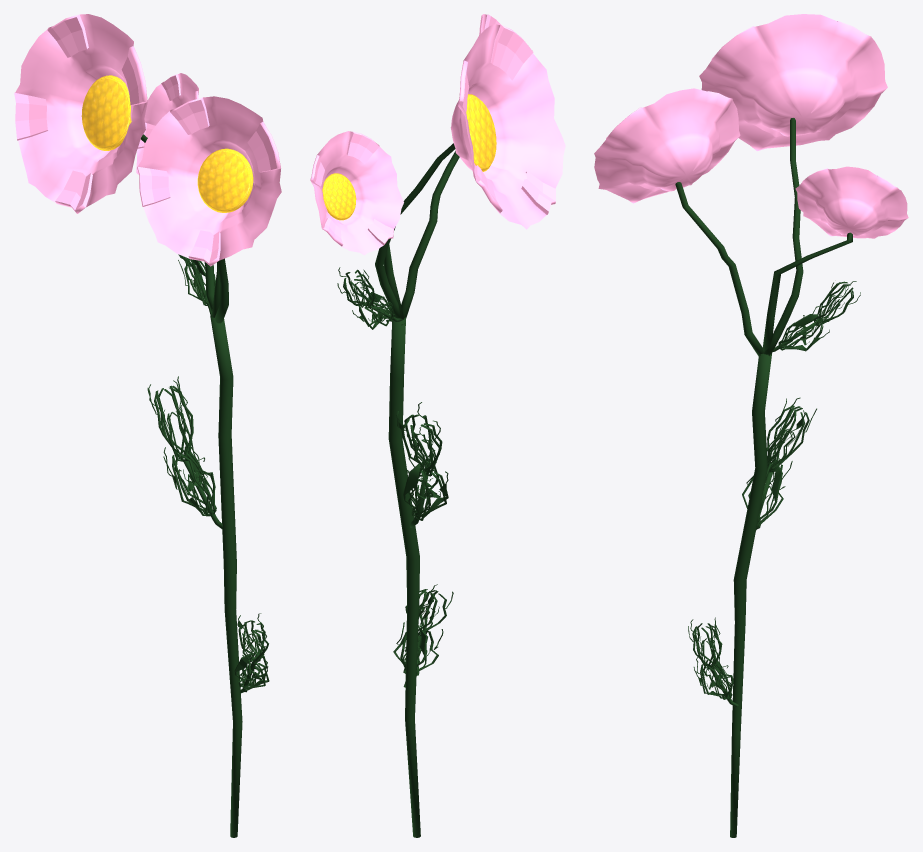
Rendered from cosmospinkcp.glb.
The picture shows the model from 3 angles, left to right: view 1: azimuth 30°, elevation 25°; view 2: azimuth 150°, elevation 25°; view 3: azimuth 270°, elevation 25°; orthographic projection. The views are drawn at different scales.
Visible parts, largest first — view 1: flower; view 2: flower; view 3: flower.
Boxes of the visible parts, bbox=[...] form: flower: bbox=[14, 14, 281, 837]; flower: bbox=[310, 14, 565, 837]; flower: bbox=[594, 14, 908, 837].
Size of the model in its own units: 1.09 by 4.64 by 1.7.
3 materials, 1 textured.
